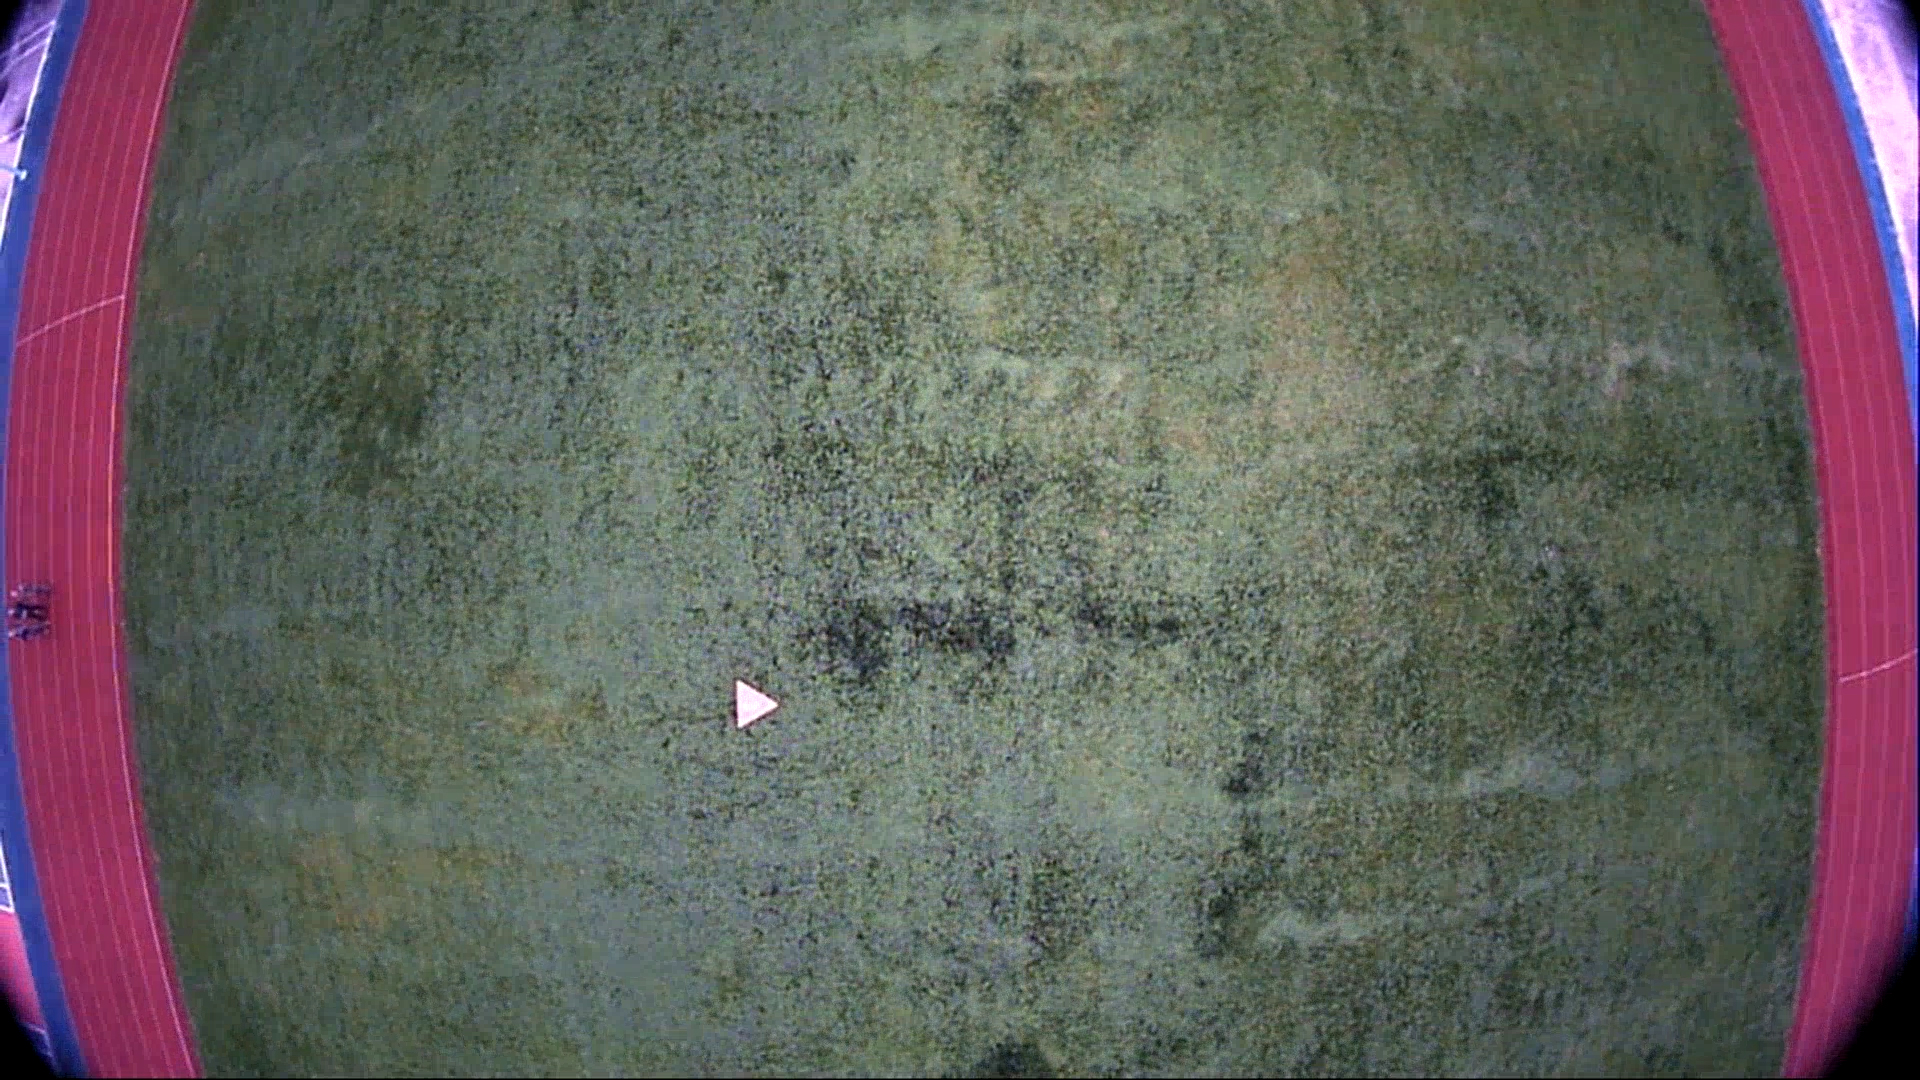triangle: (729, 673, 785, 735)
